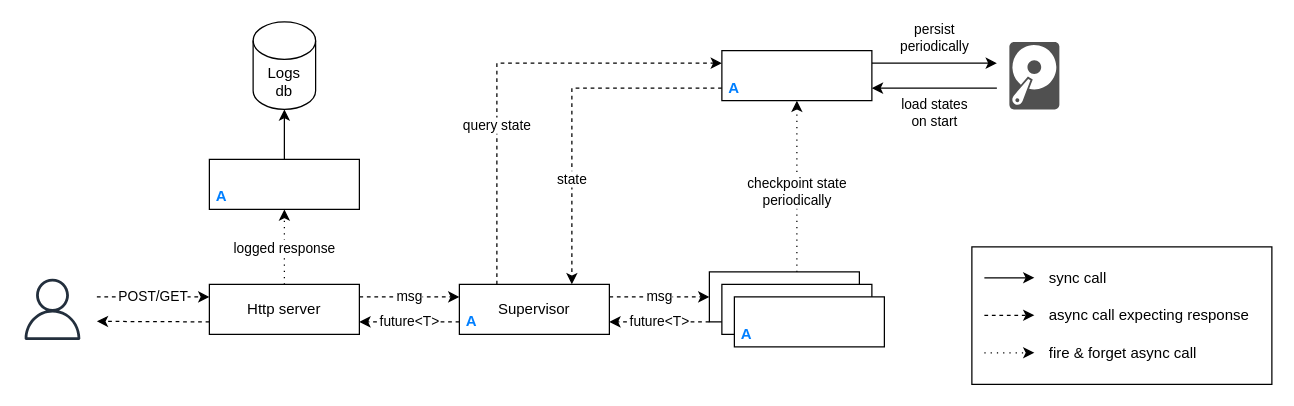
Some shapes in this 1294 by 406 pixel diagram are drawn without their labels. Each missing label, with the box of its shape:
Accountant: (208, 158, 359, 209)
Cache: (721, 49, 872, 101)
Experiment: (733, 296, 884, 347)
